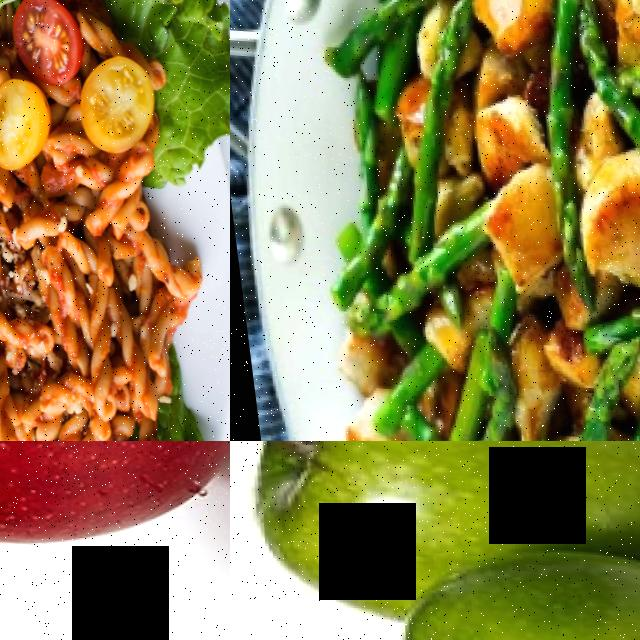apple: (230, 441, 640, 562), (0, 441, 230, 570), (361, 540, 640, 640)
asparagus: (511, 6, 592, 289), (399, 0, 475, 258), (566, 10, 635, 148), (554, 338, 624, 441)
tomato: (60, 47, 158, 159), (0, 0, 77, 82), (0, 84, 50, 165)
